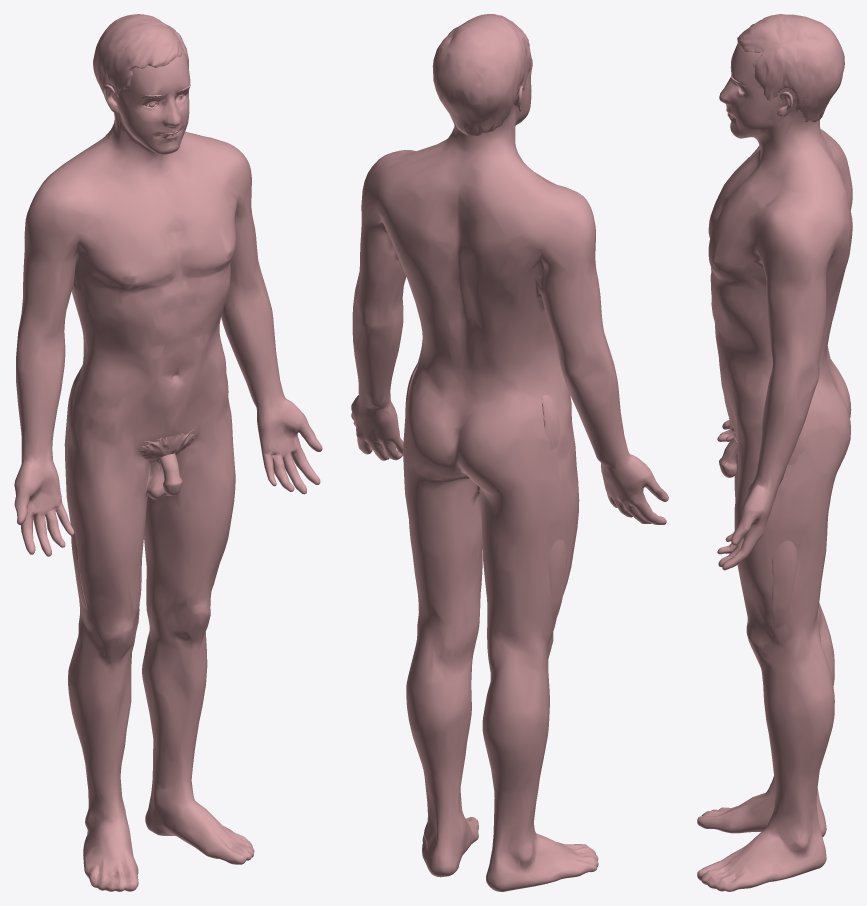
The model's file is organs-01.glb.
3 views of the same model, side by side, from view 1: azimuth 30°, elevation 25°; view 2: azimuth 150°, elevation 25°; view 3: azimuth 270°, elevation 25° (orthographic). The views are drawn at different scales.
Visible parts, largest first — view 1: FMA7163_FJ2810, FMA54241_FJ2813, FMA54319_FJ2815; view 2: FMA7163_FJ2810, FMA54241_FJ2813, FMA58776_FJ1423; view 3: FMA7163_FJ2810, FMA54241_FJ2813, FMA58777_FJ1423M.
Boxes of the visible parts, bbox=[...] form: FMA7163_FJ2810: bbox=[14, 47, 322, 891]; FMA54241_FJ2813: bbox=[93, 14, 188, 97]; FMA54319_FJ2815: bbox=[140, 429, 195, 461]; FMA7163_FJ2810: bbox=[351, 54, 668, 891]; FMA54241_FJ2813: bbox=[432, 14, 530, 135]; FMA58776_FJ1423: bbox=[542, 395, 567, 620]; FMA7163_FJ2810: bbox=[697, 44, 852, 891]; FMA54241_FJ2813: bbox=[737, 14, 844, 122]; FMA58777_FJ1423M: bbox=[772, 427, 804, 629].
Bounding box in the file's own units: 0.6668 × 1.73 × 0.292.
